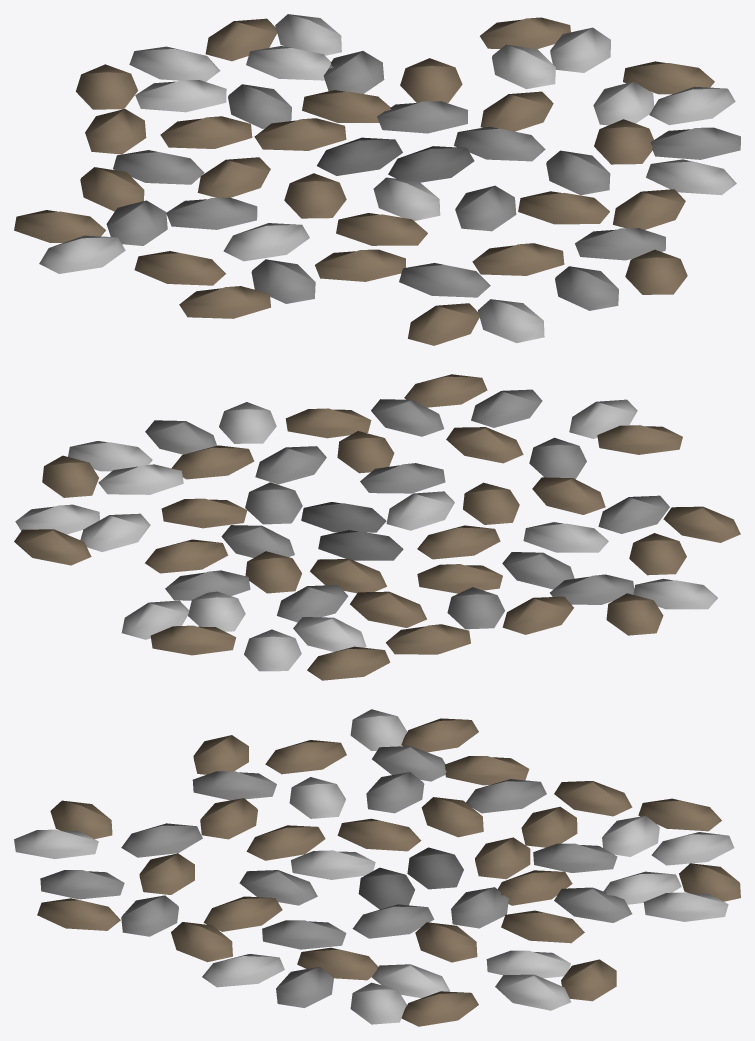
Rendered from penguin_nest.fbx.
The picture shows the model from 3 angles, top to bottom: view 1: azimuth 30°, elevation 25°; view 2: azimuth 150°, elevation 25°; view 3: azimuth 270°, elevation 25°; orthographic projection. The views are drawn at different scales.
Visible parts, largest first — view 1: Circle.023, Circle.003, Circle.011, Circle.026, Circle.028, Circle.018, Circle.008, Circle.027, Circle.024, Circle.021, Circle.055, Circle.054 (+41 smaller); view 2: Circle.049, Circle.047, Circle.048, Circle.001, Circle.004, Circle.012, Circle.005, Circle.016, Circle.050, Circle.035, Circle.038, Circle.039 (+41 smaller); view 3: Circle.045, Circle.029, Circle.044, Circle.030, Circle.032, Circle.046, Circle.033, Circle.037, Circle.035, Circle.039, Circle.040, Circle.041 (+41 smaller).
Boxes of the visible parts, box(x1,y1,x2,y2) form: Circle.023: box(166, 197, 257, 229); Circle.003: box(135, 80, 226, 112); Circle.011: box(518, 191, 609, 224); Circle.026: box(179, 286, 270, 318); Circle.028: box(254, 118, 346, 150); Circle.018: box(650, 127, 740, 159); Circle.008: box(336, 213, 427, 245); Circle.027: box(472, 243, 564, 275); Circle.024: box(160, 116, 252, 148); Circle.021: box(377, 101, 467, 133); Circle.055: box(399, 263, 490, 297); Circle.054: box(134, 251, 225, 285); Circle.049: box(597, 425, 682, 454); Circle.047: box(161, 498, 247, 528); Circle.048: box(150, 625, 236, 655); Circle.001: box(98, 464, 183, 494); Circle.004: box(386, 624, 470, 654); Circle.012: box(523, 522, 608, 552); Circle.005: box(360, 463, 445, 493); Circle.016: box(318, 530, 403, 560); Circle.050: box(285, 408, 371, 438); Circle.035: box(417, 525, 500, 559); Circle.038: box(307, 646, 390, 680); Circle.039: box(145, 539, 228, 573); Circle.045: box(643, 892, 728, 921); Circle.029: box(533, 843, 617, 872); Circle.044: box(14, 829, 98, 858); Circle.030: box(262, 920, 346, 949); Circle.032: box(40, 870, 124, 899); Circle.046: box(291, 850, 375, 879); Circle.033: box(192, 771, 276, 800); Circle.037: box(37, 898, 120, 930); Circle.035: box(337, 818, 421, 851); Circle.039: box(501, 910, 584, 943); Circle.040: box(651, 832, 734, 865); Circle.041: box(202, 954, 284, 987).
Bounding box in the file's own units: 320 × 8.36 × 316.
